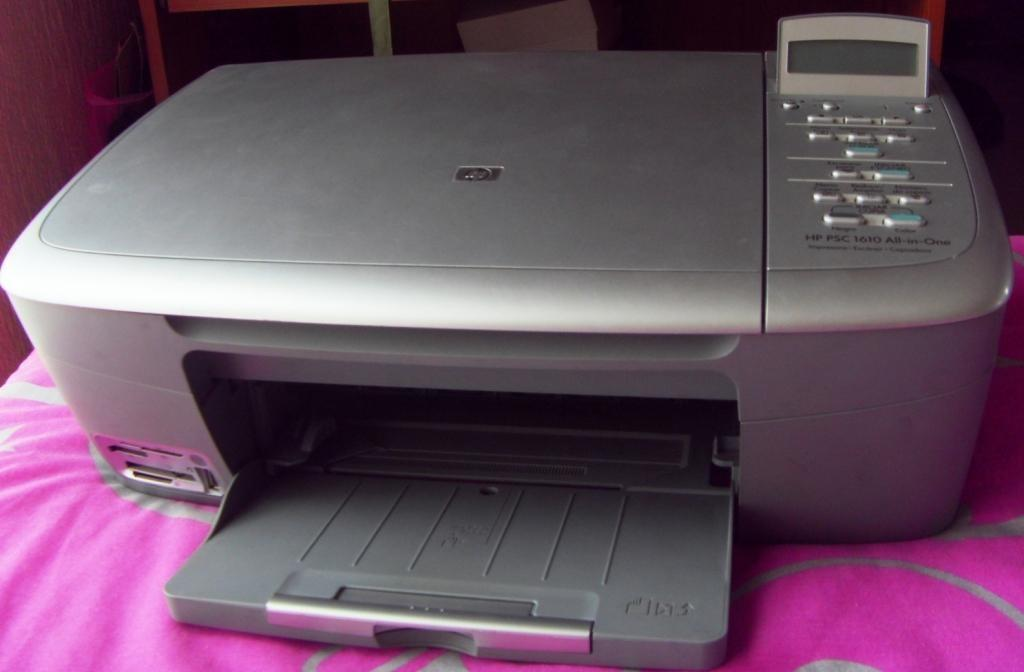Printer: (0, 10, 1015, 671)
